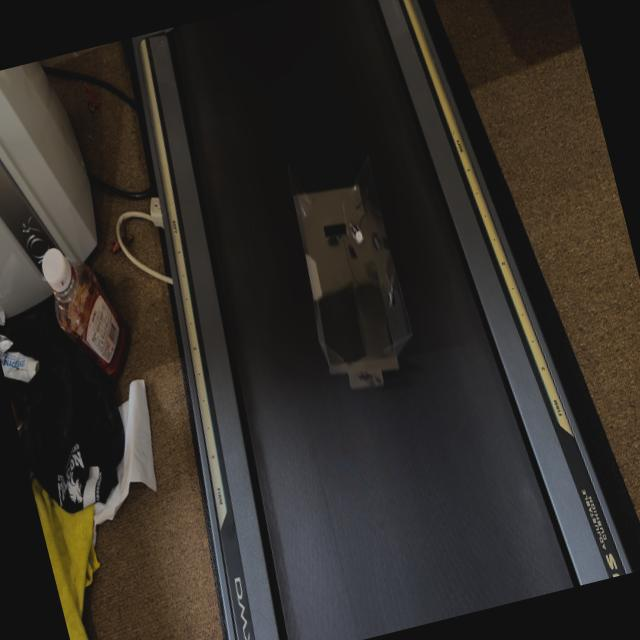Recycle: (274, 148, 424, 396)
